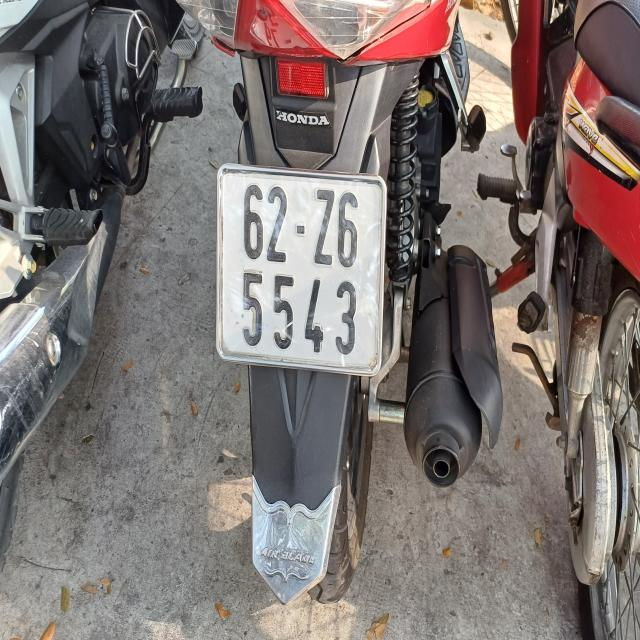2: (266, 186, 288, 267)
3: (332, 280, 359, 362)
4: (305, 277, 328, 354)
5: (269, 274, 296, 349), (239, 271, 264, 349)
6: (337, 191, 361, 272), (242, 179, 265, 261)
Z: (313, 184, 334, 270)
